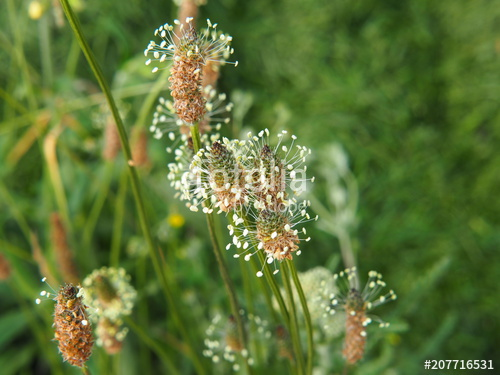buckhorn plantain: (129, 21, 391, 374)
